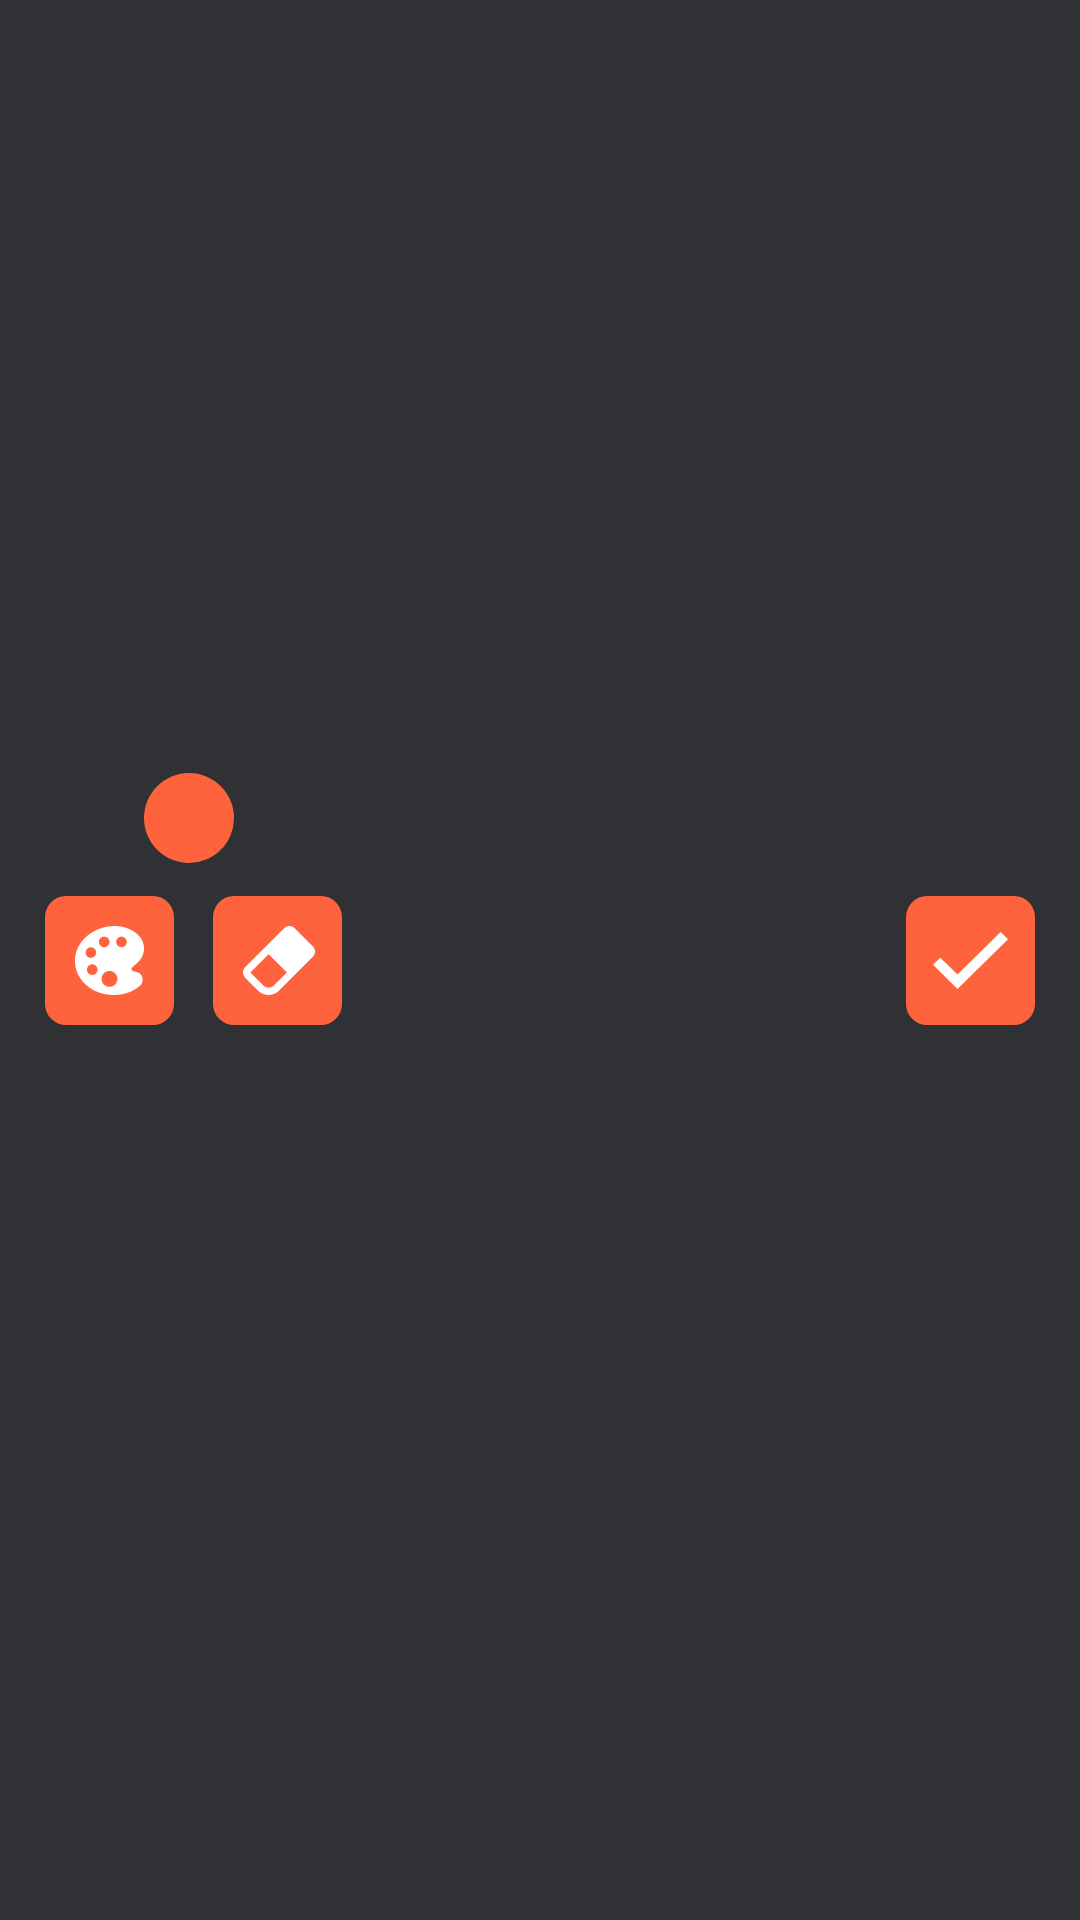

Icon click points for this 1080w x 1920h phone screenshot, format point (x, y):
eraser: point (277, 960)
